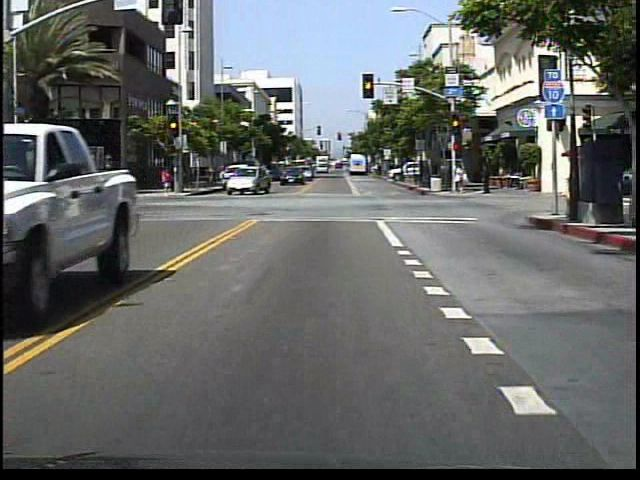person: (453, 160, 469, 198), (479, 160, 493, 196), (162, 165, 174, 196)
